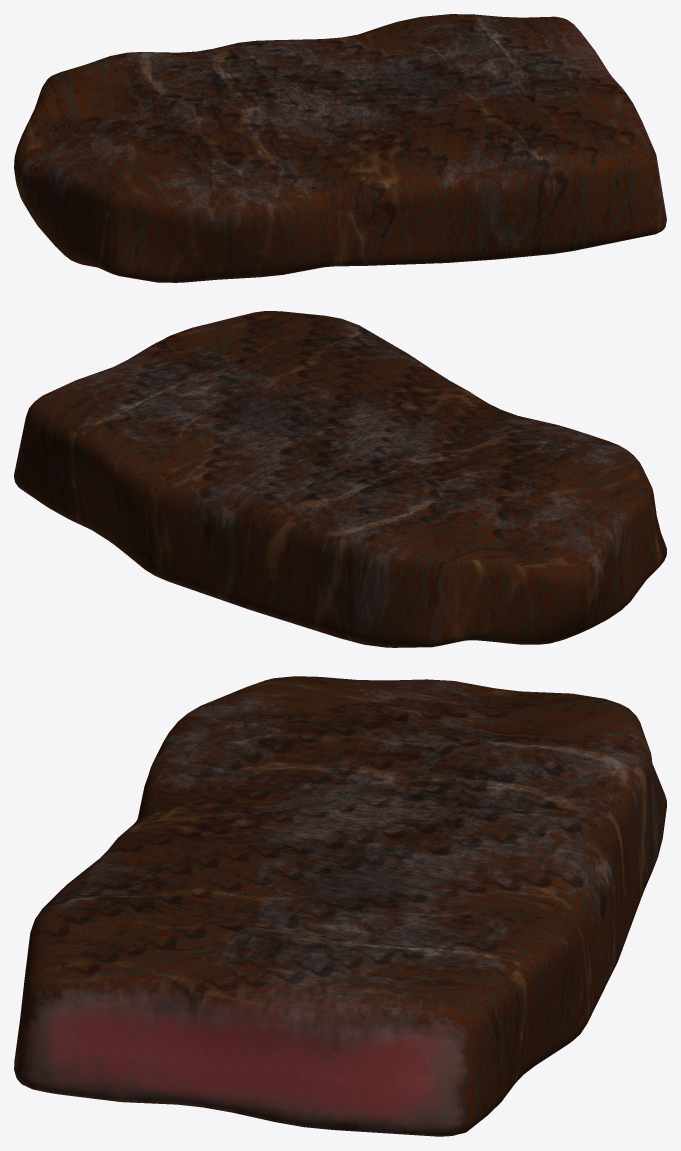
Rendered from steak-cooked.glb.
The picture shows the model from 3 angles, top to bottom: view 1: azimuth 30°, elevation 25°; view 2: azimuth 150°, elevation 25°; view 3: azimuth 270°, elevation 25°; orthographic projection. The views are drawn at different scales.
Visible parts, largest first — view 1: pCube1; view 2: pCube1; view 3: pCube1.
Boxes of the visible parts, bbox=[...] form: pCube1: bbox=[14, 14, 666, 282]; pCube1: bbox=[14, 311, 666, 647]; pCube1: bbox=[14, 676, 666, 1136].
Bounding box in the file's own units: 0.16 × 0.0301 × 0.1194.
1 material, 1 textured.
